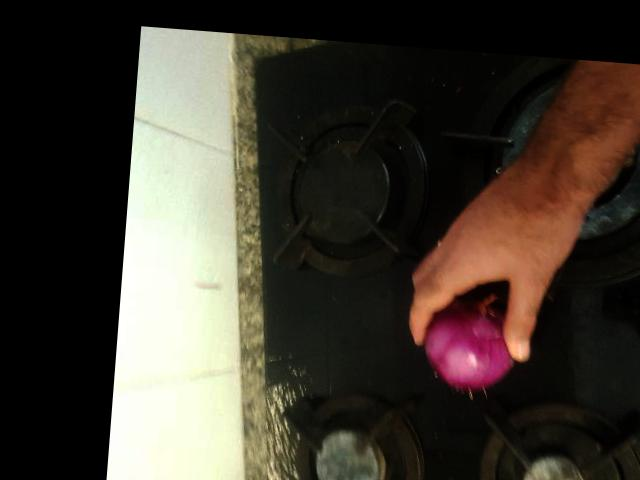onion: (419, 293, 514, 380)
